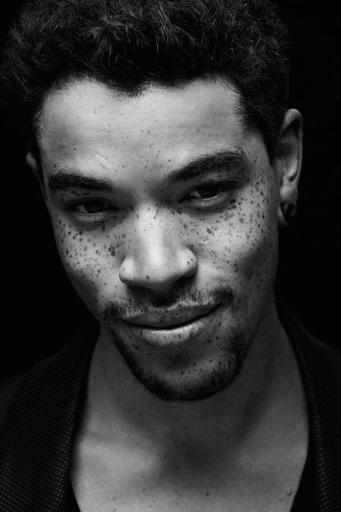left_eye: (176, 179, 240, 214)
left_lip_corner: (206, 296, 229, 329)
right_eye: (68, 195, 122, 227)
right_lip_corner: (119, 311, 139, 337)
